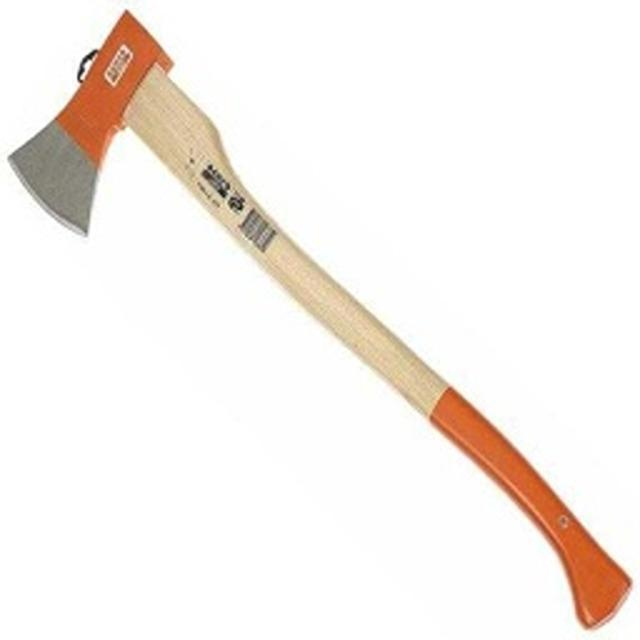ax: (1, 0, 639, 640)
